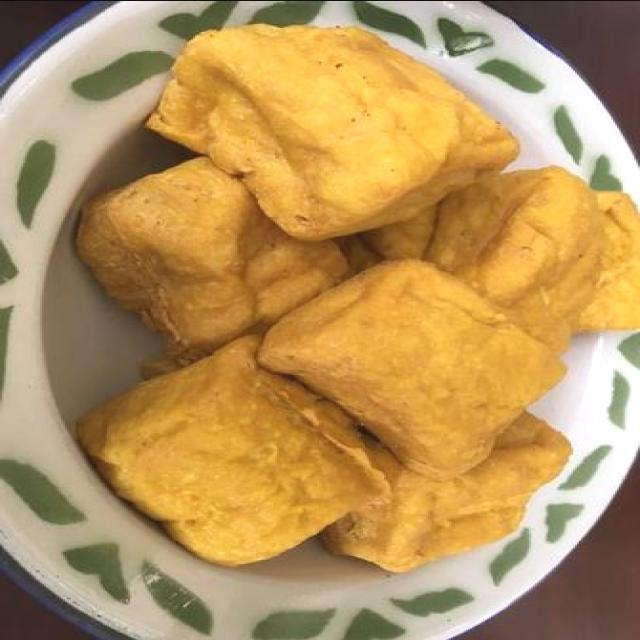tahu goreng: (143, 22, 518, 242), (83, 358, 391, 564)
